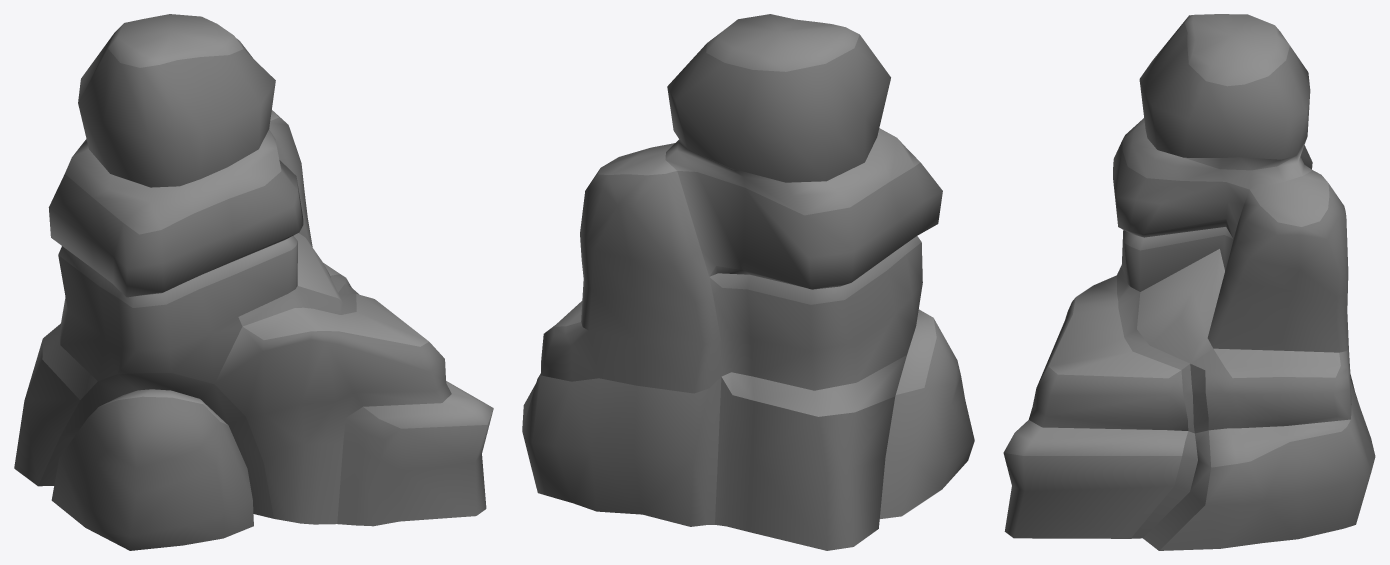
Rendered from MountainDesert_2.fbx.
3 renders of one model, left to right at view 1: azimuth 30°, elevation 25°; view 2: azimuth 150°, elevation 25°; view 3: azimuth 270°, elevation 25°, orthographic. The views are drawn at different scales.
Visible parts, largest first — view 1: Mountain_2; view 2: Mountain_2; view 3: Mountain_2.
Boxes of the visible parts, x1,y1,x2,y2 form: Mountain_2: (14, 14, 493, 550); Mountain_2: (522, 14, 974, 550); Mountain_2: (1003, 14, 1375, 550).
Bounding box in the file's own units: 1041 × 1019 × 1256.
